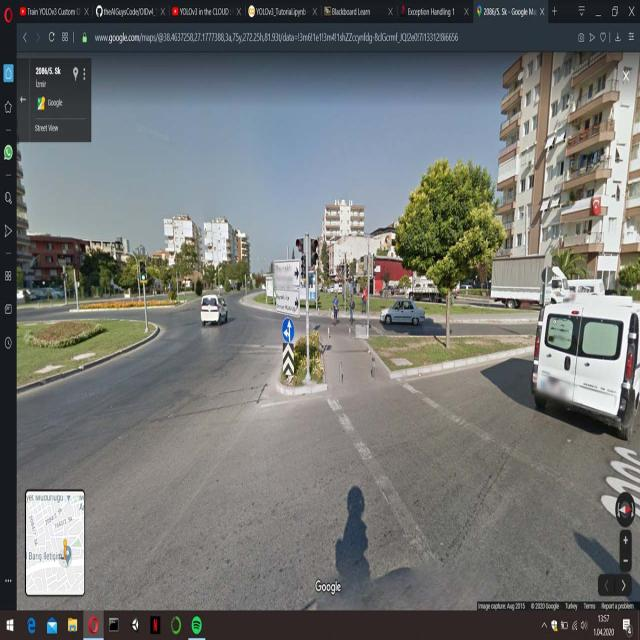ilerisol: (282, 317, 296, 343)
